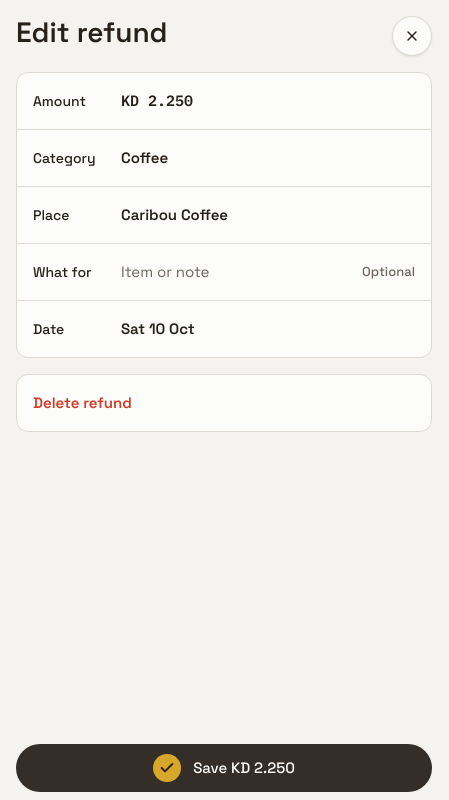
Test: /log editing a refund into an income category (MOB-R117 C4) › shows Log's refund line on category_is_income, not the connection one
Expected: the heading "Edit refund" is shown, [16,14,168,50]
Expected: the button "Amount KD 2.250" is shown, [17,73,431,129]
Click the button "Save KD 2.250".
click(224, 768)  # box [16,744,432,792]
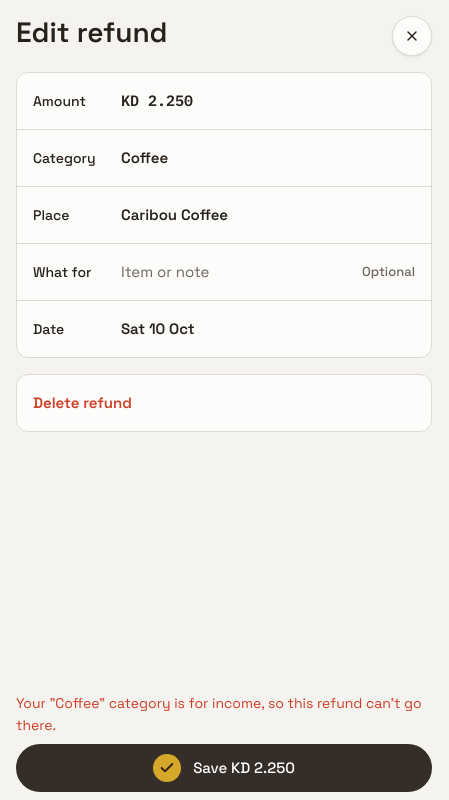
Expected: the text "Your \"Coffee\" category is for income, so this refund can't go there." is shown, [16,692,432,736]
